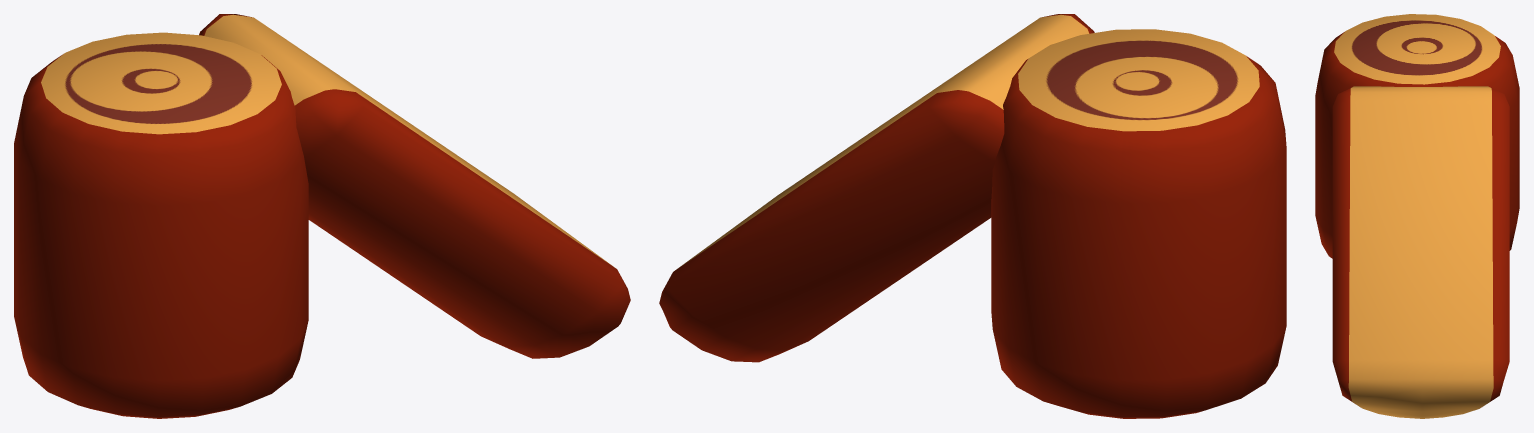
The model's file is Pedan.fbx.
3 renders of one model, left to right at view 1: azimuth 30°, elevation 25°; view 2: azimuth 150°, elevation 25°; view 3: azimuth 270°, elevation 25°, orthographic. The views are drawn at different scales.
Parts seen in each view (by area): view 1: Pedan4, Pedan5; view 2: Pedan4, Pedan5; view 3: Pedan5, Pedan4.
Boxes of the visible parts, x1=… form: Pedan4: x1=14, y1=32, x2=308, y2=418; Pedan5: x1=199, y1=14, x2=630, y2=358; Pedan4: x1=991, y1=29, x2=1286, y2=418; Pedan5: x1=659, y1=14, x2=1094, y2=362; Pedan5: x1=1332, y1=86, x2=1509, y2=418; Pedan4: x1=1315, y1=14, x2=1519, y2=258.
Bounding box in the file's own units: 2.06 × 1.28 × 0.9591.
